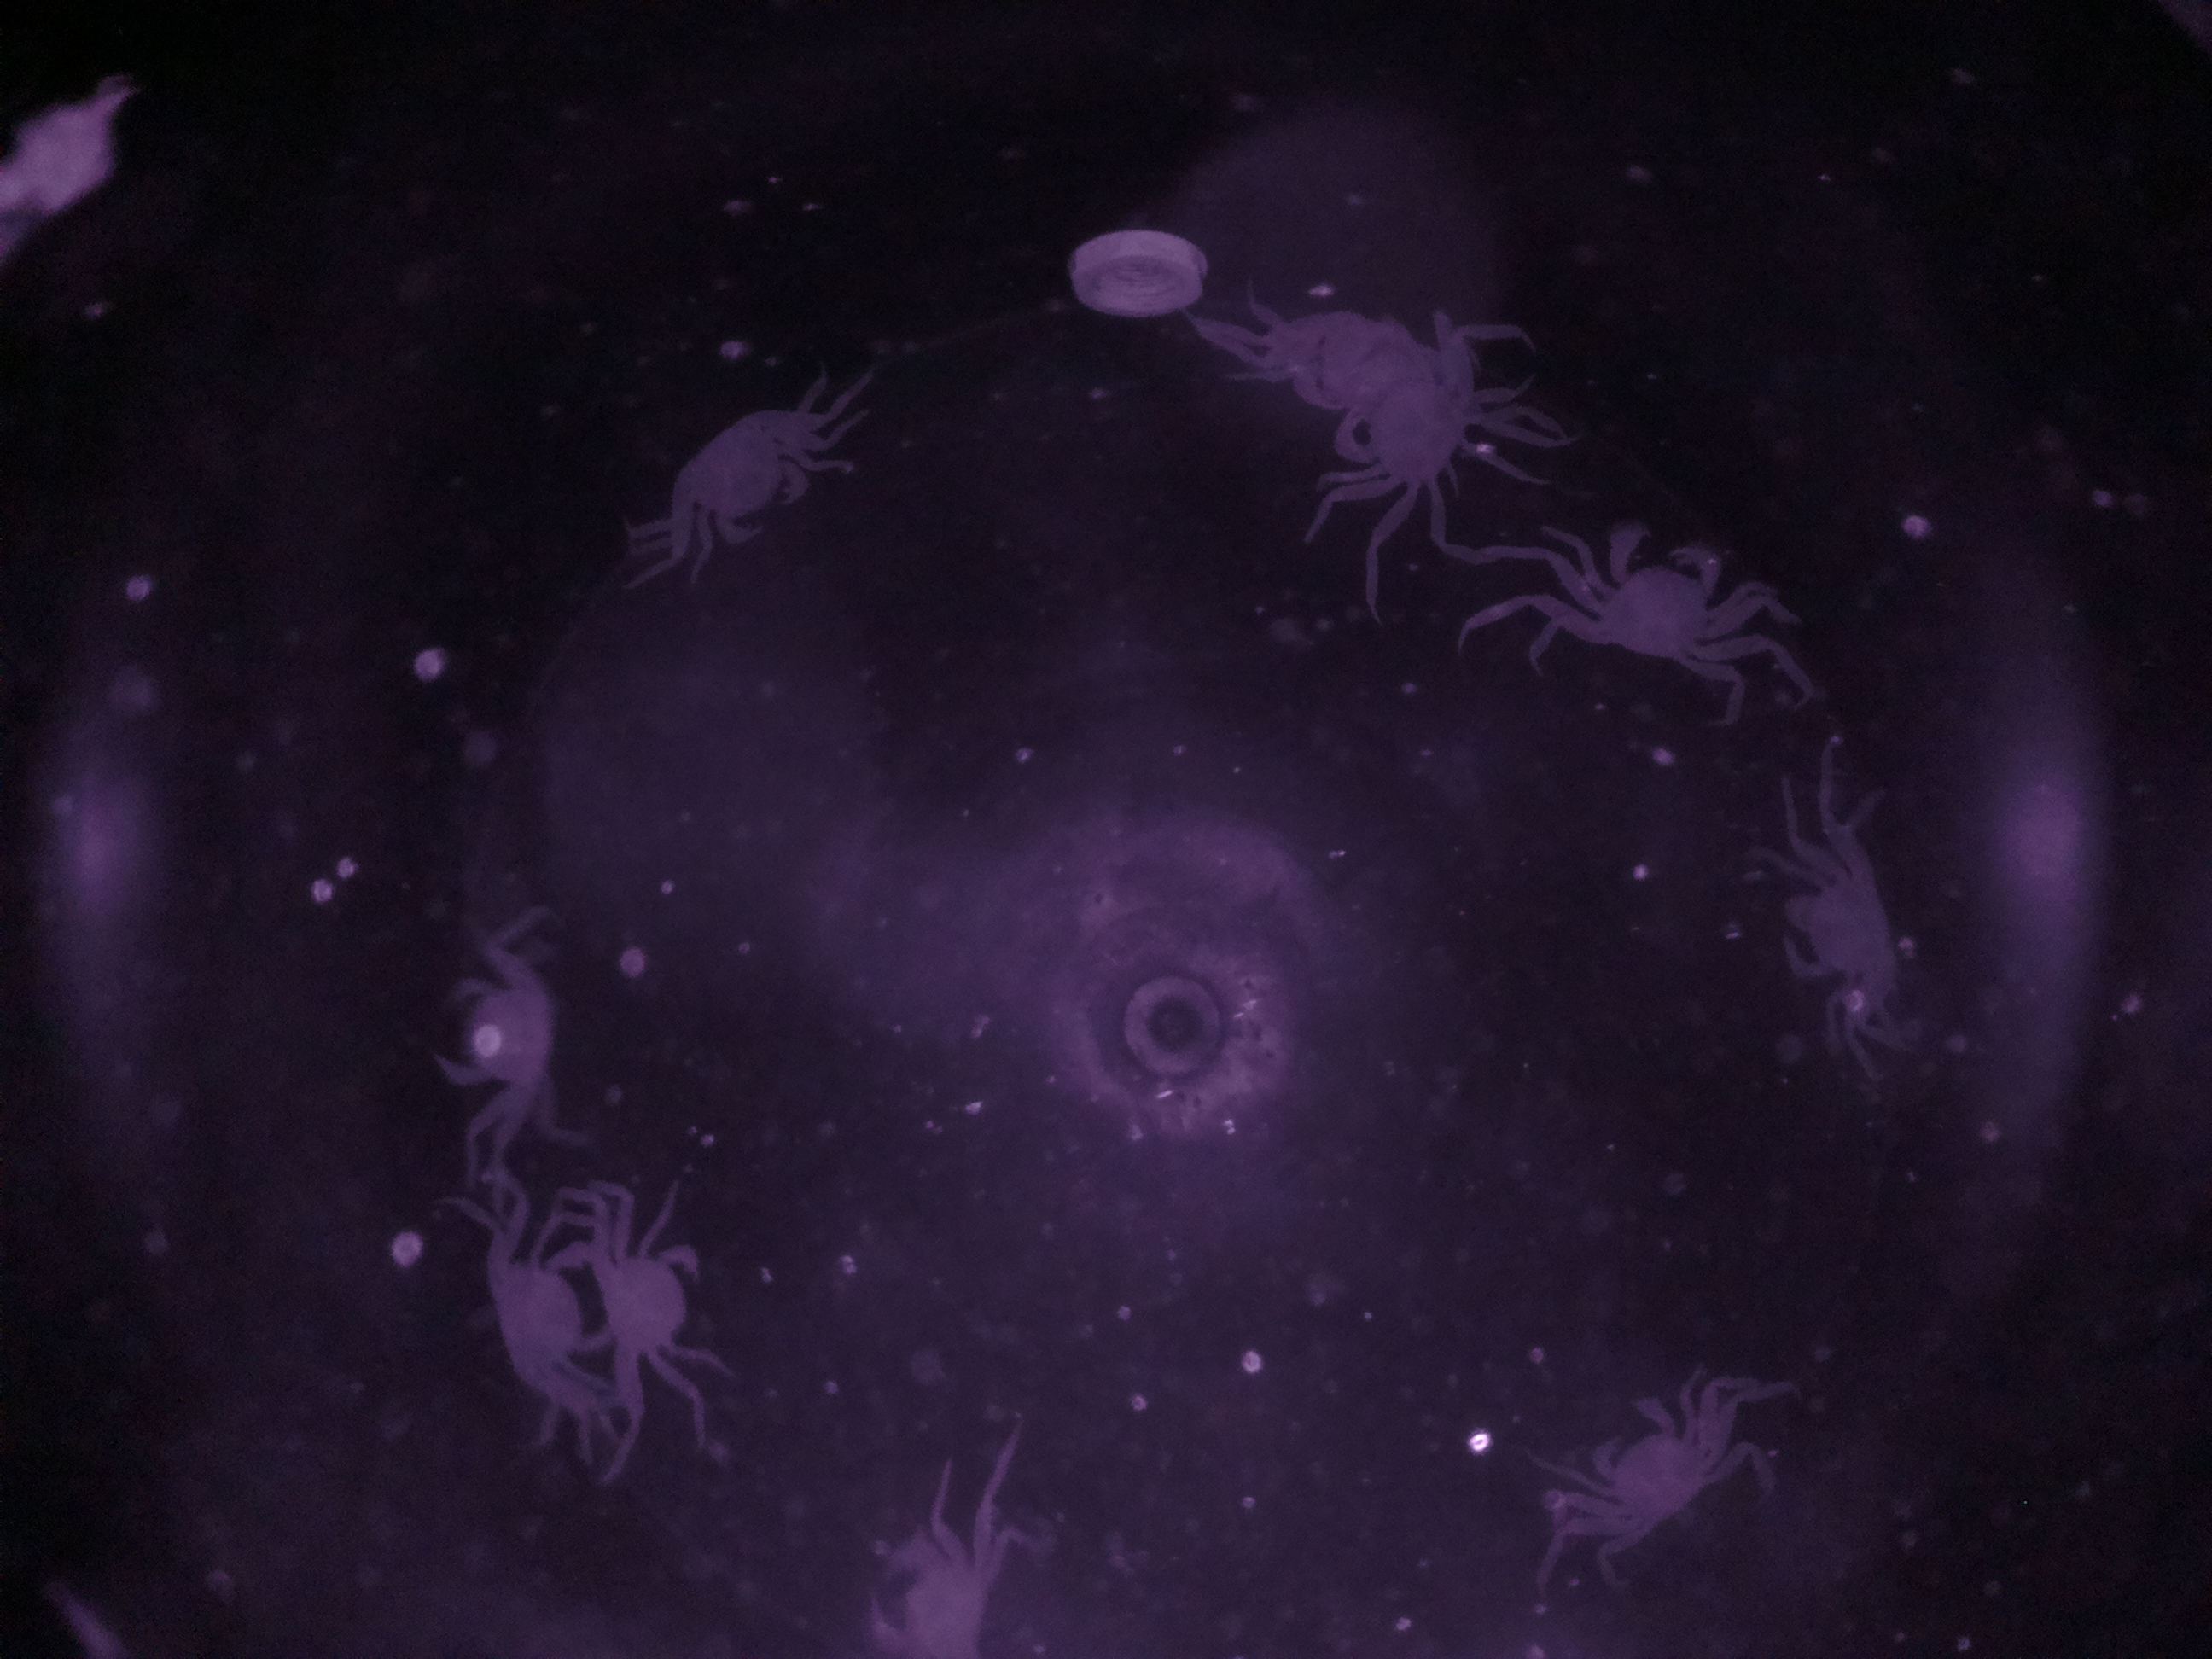Crab: (1555, 507, 1770, 685), (564, 1199, 745, 1389), (1552, 1371, 1737, 1546), (671, 376, 831, 566)
